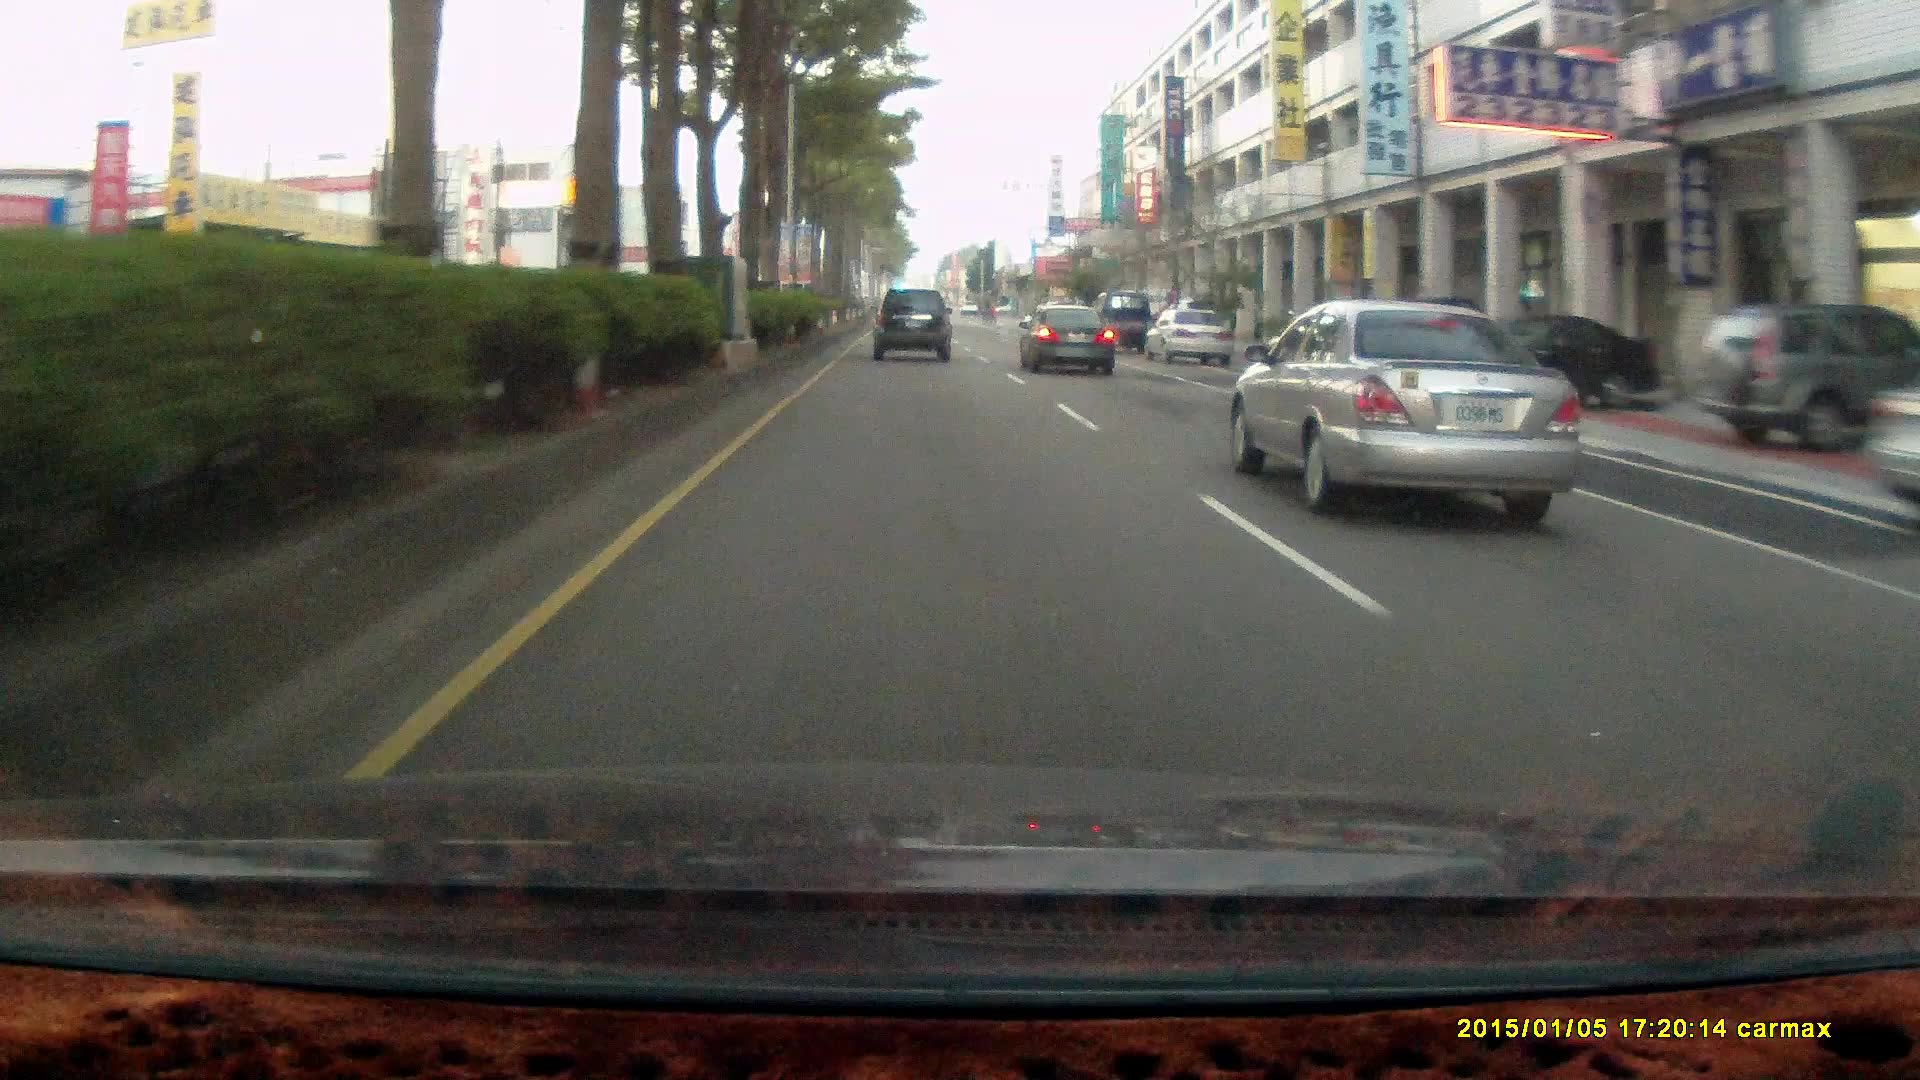vehicle: (1226, 295, 1592, 522), (1693, 299, 1920, 454), (1695, 299, 1920, 454), (1429, 313, 1672, 410), (1433, 313, 1664, 407), (1855, 331, 1920, 531), (1855, 331, 1919, 530), (1018, 302, 1120, 378), (1017, 302, 1116, 375), (872, 287, 955, 365), (870, 286, 953, 357), (1139, 307, 1232, 367), (1149, 313, 1240, 367), (1089, 286, 1153, 348)
